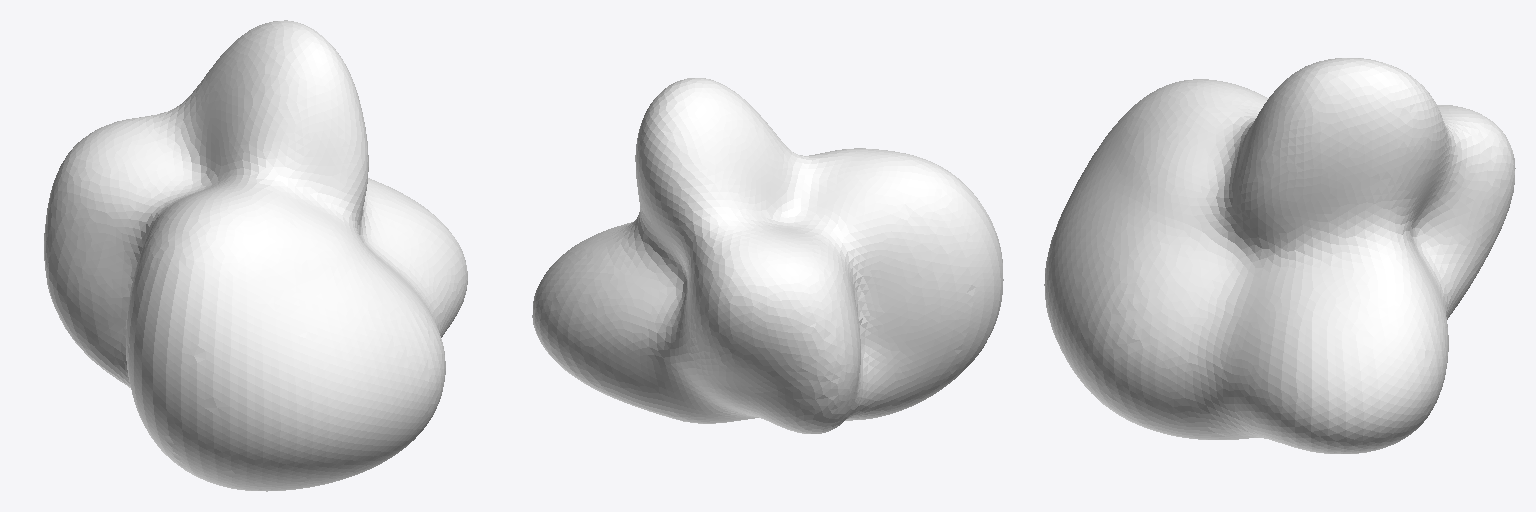
URDF robot description (BigGlaven1):
<robot name="BigGlaven1">
	<link name="_name">
		<visual>
			<origin rpy="0 0 0" xyz="-0.0002527582863137325 0.0034374305822753534 0.0015959521940678149" />
			<geometry>
				<mesh filename="BigGlaven1.obj" scale="0.001 0.001 0.001" />
			</geometry>
			<material name="texture">
				<color rgba="1.0 1.0 1.0 1.0" />
			</material>
		</visual>
		<collision>
			<geometry>
				<mesh filename="BigGlaven1_vhacd.obj" scale="0.001 0.001 0.001" />
			</geometry>
		<origin rpy="0 0 0" xyz="-0.0002527582863137325 0.0034374305822753534 0.0015959521940678149" /></collision>
		<inertial>
			<mass value="1.0" />
			<inertia ixx="1.0" ixy="0.0" ixz="0.0" iyy="1.0" iyz="0.0" izz="1.0" />
		</inertial>
	</link>
</robot>

--- Render facts (derived) ---
The picture shows the robot from 3 angles, left to right: view 1: azimuth 30°, elevation 25°; view 2: azimuth 150°, elevation 25°; view 3: azimuth 270°, elevation 25°; orthographic projection.
Robot: BigGlaven1 — 1 links, 0 joints (none); root link _name; default pose: all joints at 0.
Visible links, largest first — view 1: _name; view 2: _name; view 3: _name.
Link boxes in pixels (x1,y1,x2,y2): _name: [44, 20, 467, 491]; _name: [532, 78, 1003, 433]; _name: [1044, 58, 1515, 453].
Size in the robot's own frame: 0.0482 by 0.0475 by 0.0435 metres.
1 mesh visuals loaded from 1 distinct referenced files (1 OBJ).
